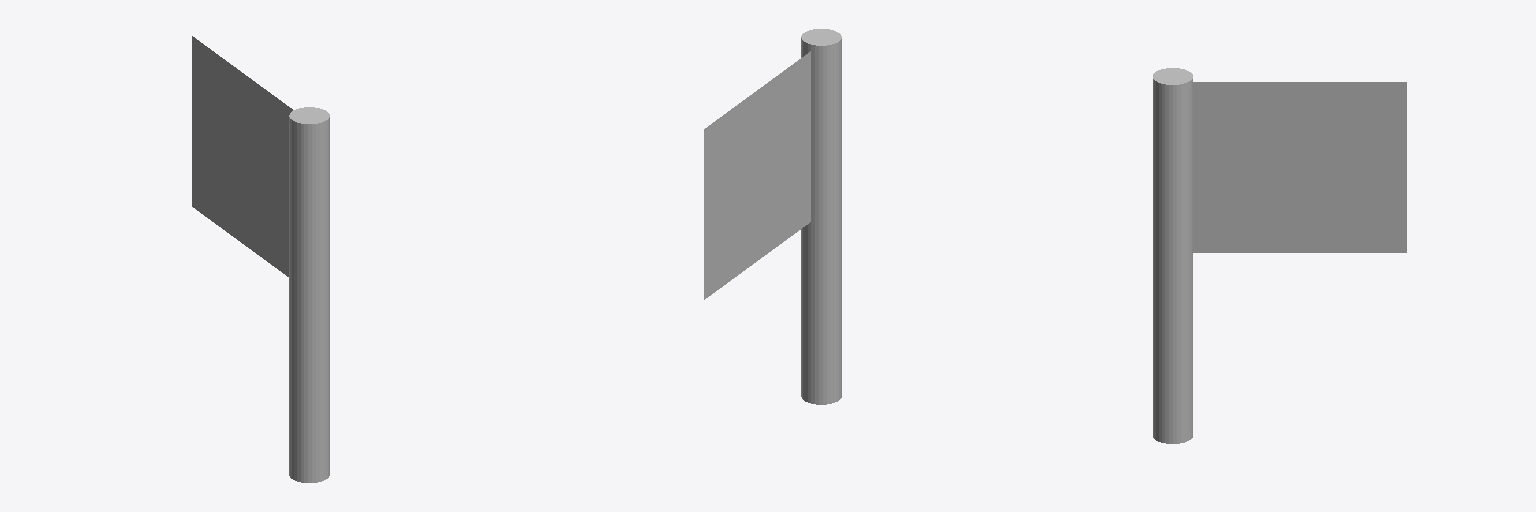
The model's file is flag.obj.
The picture shows the model from 3 angles: view 1: azimuth 30°, elevation 25°; view 2: azimuth 150°, elevation 25°; view 3: azimuth 270°, elevation 25°; orthographic projection.
Visible parts, largest first — view 1: Cylinder; view 2: Cylinder; view 3: Cylinder.
Part boxes in pixels (x1,y1,x2,y2): Cylinder: (192,36,329,482); Cylinder: (704,29,841,404); Cylinder: (1153,68,1406,443).
Size of the model in its own units: 0.4299 by 4.2 by 2.7.